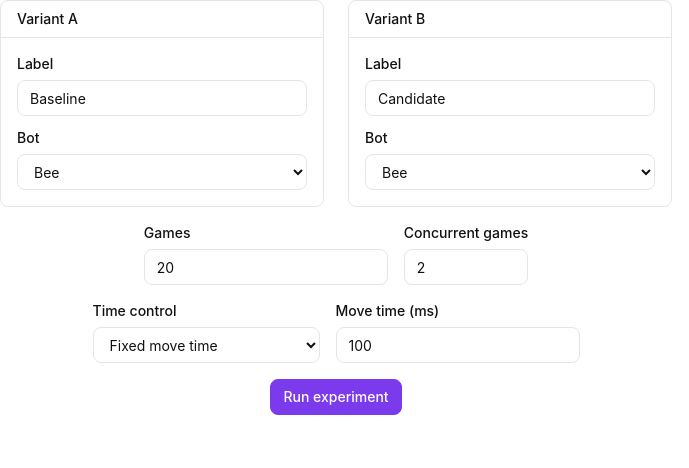
ExperimentSetup › shows the server's error message if creating the experiment fails
Click the button "Run experiment" at (336, 397), box x1=270 y1=379 x2=402 y2=415
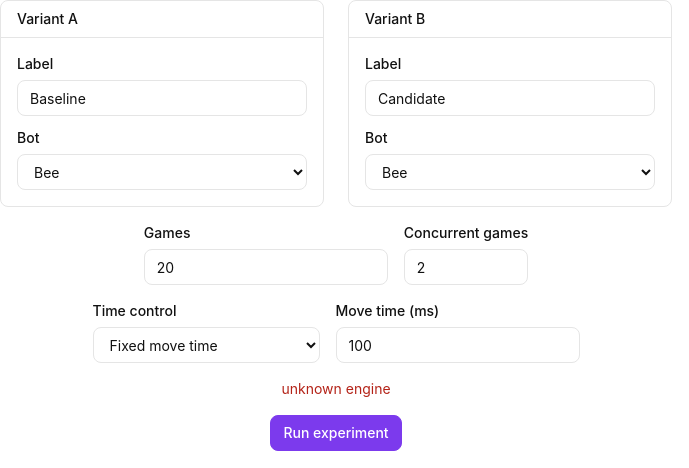
Check: the text "unknown engine" is shown, box x1=281 y1=379 x2=391 y2=399
